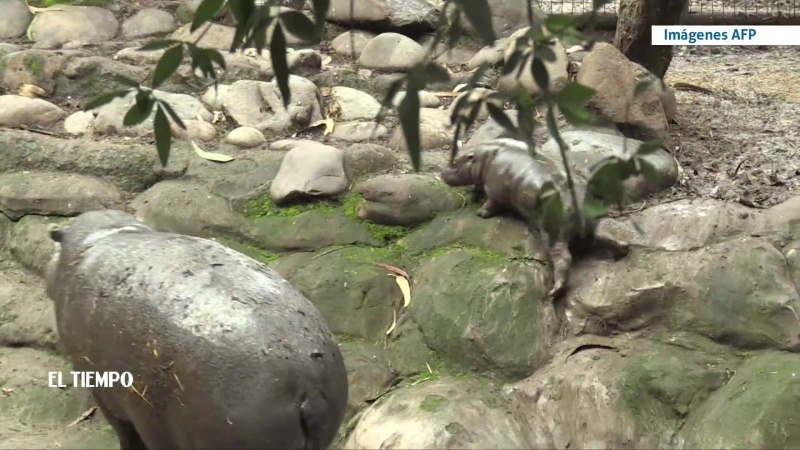hipopotamo: (29, 201, 355, 450), (433, 129, 635, 300)
